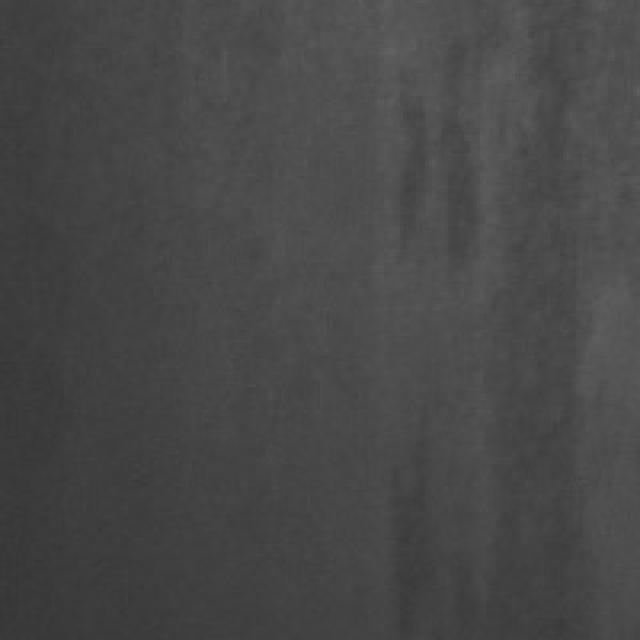inclusion: (470, 3, 608, 624), (378, 13, 499, 304), (374, 403, 448, 624)
